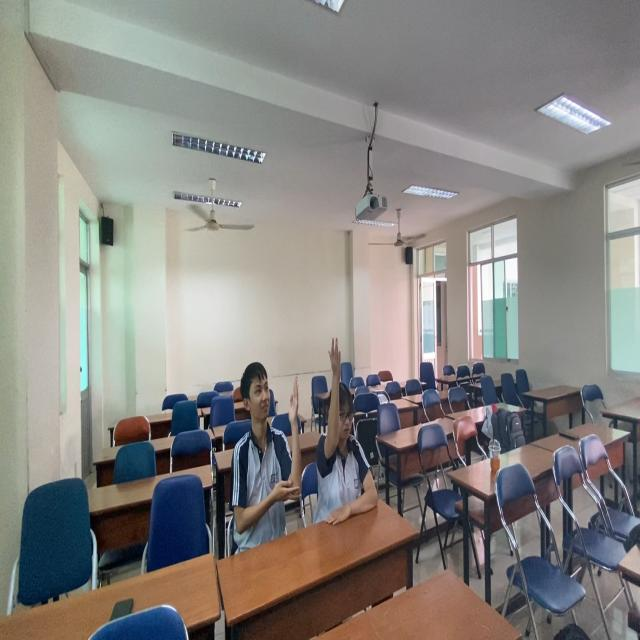raise_hand: (314, 332, 384, 527)
